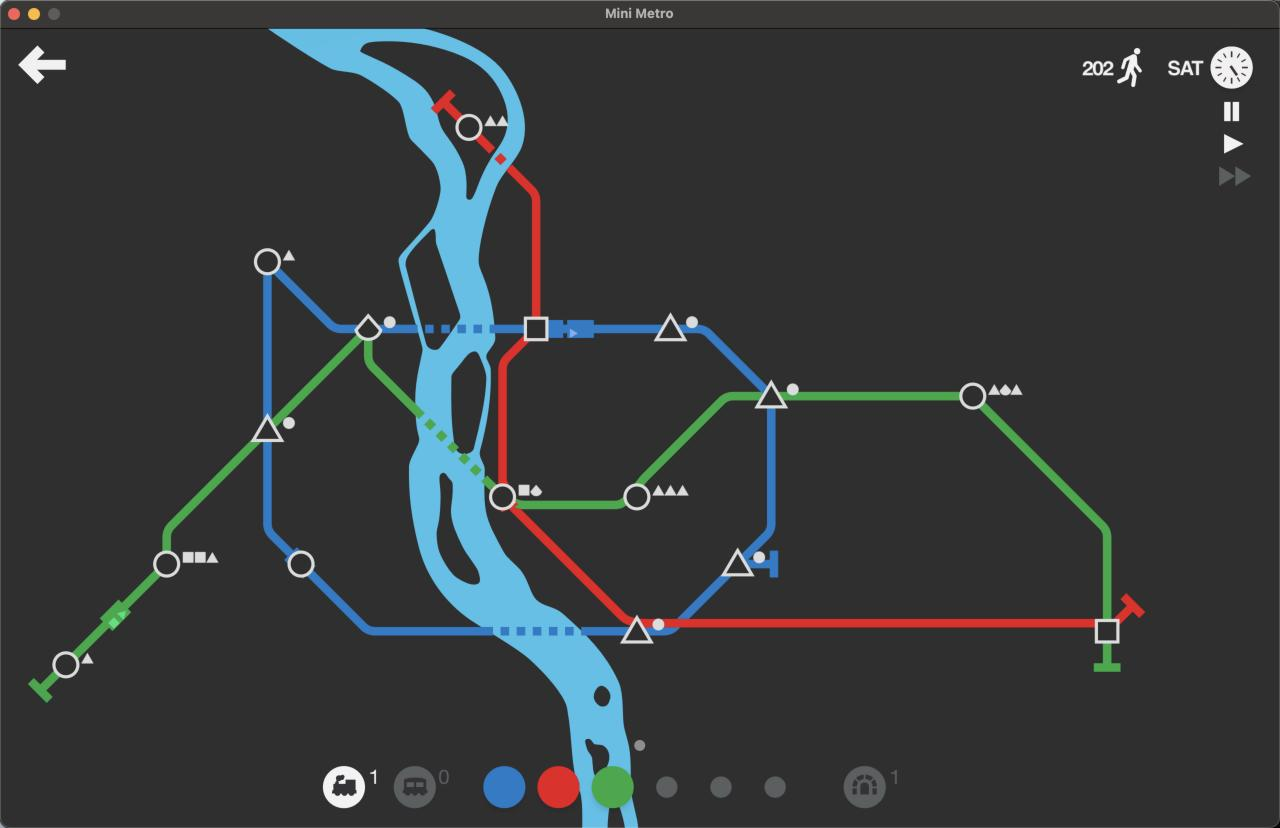CIRCLE: (487, 482, 517, 512), (152, 550, 181, 579), (253, 247, 282, 275), (623, 482, 651, 511), (287, 549, 315, 578), (52, 650, 80, 679), (455, 112, 482, 141), (959, 382, 986, 410)
SQUARE: (523, 314, 549, 342), (1094, 618, 1119, 644)
TRIANGLE: (721, 546, 755, 579), (620, 613, 654, 645), (753, 379, 789, 409), (653, 312, 687, 343), (251, 414, 284, 443)
WEDGE: (354, 313, 383, 342)
